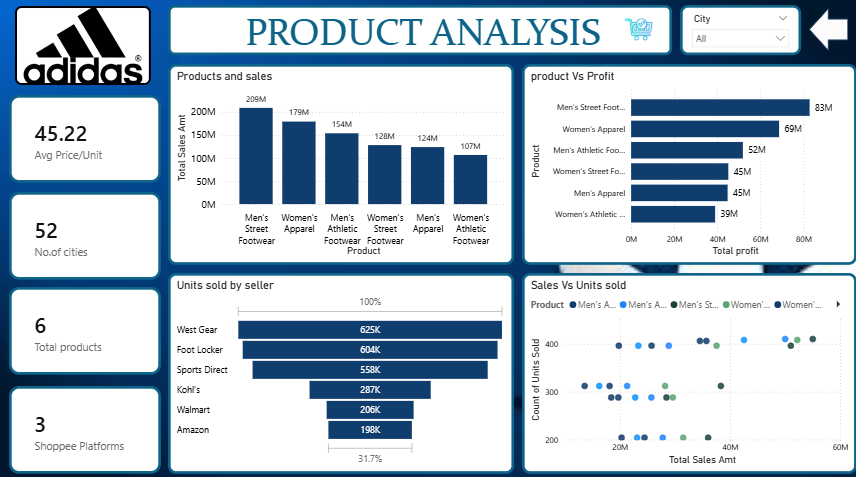

The dashboard page shown, as its layout file describes it:
{"tool":"powerbi","page":{"name":"Product Overview","canvas":[1280,720],"ordinal":2},"visuals":[{"type":"columnChart","title":"Products and sales","fields":{"Category":["Data Sales Adidas.Product"],"Y":["Data Sales Adidas.Total Sales Amt"]},"box":[251,101.6,516.8,300.2],"z":0},{"type":"scatterChart","title":"Sales Vs Units sold","fields":{"X":["Data Sales Adidas.Total Sales Amt"],"Category":["Data Sales Adidas.Region"],"Series":["Data Sales Adidas.Product"],"Y":["CountNonNull(Data Sales Adidas.Units Sold)"]},"box":[779.8,413.8,500.4,300.2],"z":1000},{"type":"barChart","title":"product Vs Profit ","fields":{"Category":["Data Sales Adidas.Product"],"Y":["Data Sales Adidas.Total profit"]},"box":[779.8,101.6,500.4,300.2],"z":2000},{"type":"funnel","title":"Units sold by seller","fields":{"Category":["Data Sales Adidas.Retailer"],"Y":["Data Sales Adidas.Total Units Sold"]},"box":[251,413.8,516.8,300.2],"z":3000},{"type":"slicer","fields":{"Values":["Data Sales Adidas.City"]},"box":[1015.8,13.4,180.7,74.7],"z":4000},{"type":"cardVisual","fields":{"Data":["Data Sales Adidas.Total products"]},"box":[13.4,434.7,227.1,131.5],"z":5000},{"type":"textbox","title":"PRODUCT ANALYSIS","box":[251,13.4,752.9,74.7],"z":6000},{"type":"cardVisual","fields":{"Data":["Data Sales Adidas.Shoppee Platforms"]},"box":[13.4,582.6,227.1,131.5],"z":7000},{"type":"cardVisual","fields":{"Data":["Data Sales Adidas.No.of cities"]},"box":[13.4,292.8,227.1,131.5],"z":8000},{"type":"cardVisual","fields":{"Data":["Data Sales Adidas.Avg Price/Unit"]},"box":[13.4,147.9,227.1,131.5],"z":9000},{"type":"image","box":[22.4,14.9,203.2,118],"z":10000},{"type":"image","box":[915.7,25.4,77.7,49.3],"z":11000},{"type":"shape","box":[1208.5,17.9,58.3,64.2],"z":12000}]}

Visuals, with their boxes in screenshot pixels (x1, y1, x2, y2), scaled from the page's 1280x720 canvas onto the 856x477 screenshot:
"Products and sales" columnChart: 168 67 513 266
"Sales Vs Units sold" scatterChart: 521 274 855 473
"product Vs Profit " barChart: 521 67 855 266
"Units sold by seller" funnel: 168 274 513 473
slicer - Data Sales Adidas.City: 679 9 800 58
cardVisual - Data Sales Adidas.Total products: 9 288 161 375
"PRODUCT ANALYSIS" textbox: 168 9 671 58
cardVisual - Data Sales Adidas.Shoppee Platforms: 9 386 161 473
cardVisual - Data Sales Adidas.No.of cities: 9 194 161 281
cardVisual - Data Sales Adidas.Avg Price/Unit: 9 98 161 185
image: 15 10 151 88
image: 612 17 664 49
shape: 808 12 847 54
